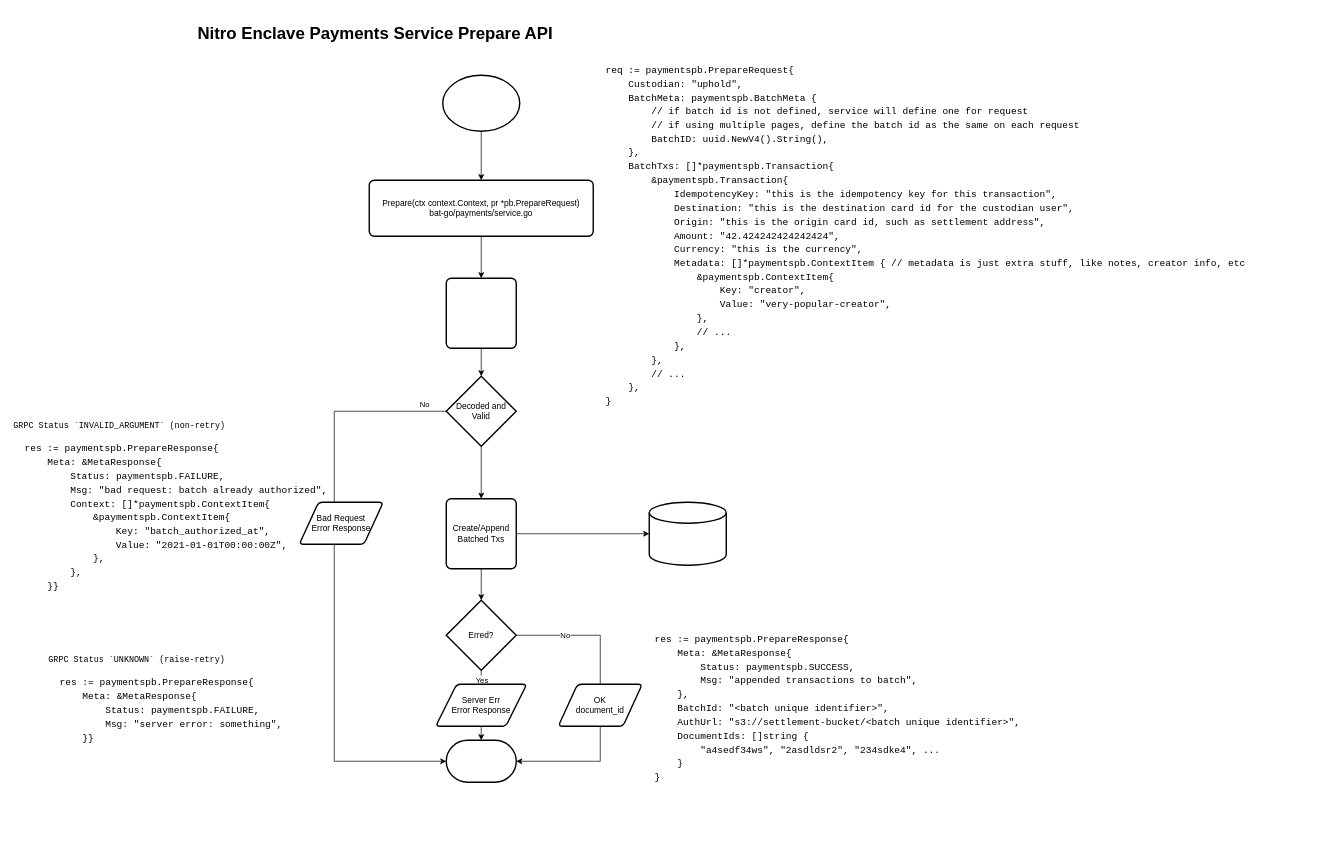
Some shapes in this 1340 by 860 pixel diagram are drawn without their labels. The centre of each missing label's shape, as x and y in pixels:
"Decode and Validate Input" belongs at point (481, 313).
"End" belongs at point (481, 761).
"GRPC Request `Prepare`" belongs at point (481, 103).
"QLDB Transaction Database" belongs at point (687, 533).
